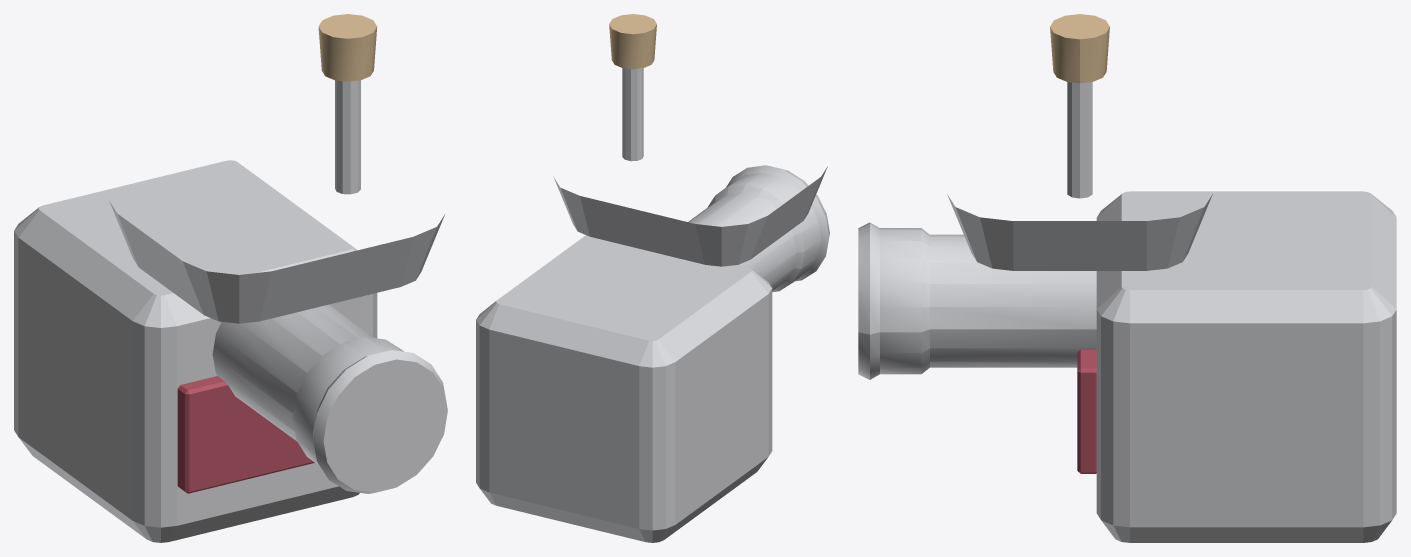
Rendered from butchers-shop-and-deli-counter-mincer-cb5c28c1__34445.glb.
The picture shows the model from 3 angles, left to right: view 1: azimuth 30°, elevation 25°; view 2: azimuth 150°, elevation 25°; view 3: azimuth 270°, elevation 25°; orthographic projection. The views are drawn at different scales.
Parts seen in each view (by area): view 1: mincer; view 2: mincer; view 3: mincer.
Part boxes in pixels (x1,y1,x2,y2): mincer: (14, 14, 447, 542); mincer: (476, 14, 829, 542); mincer: (858, 14, 1396, 542).
Size of the model in its own units: 0.36 by 0.66 by 0.646.
